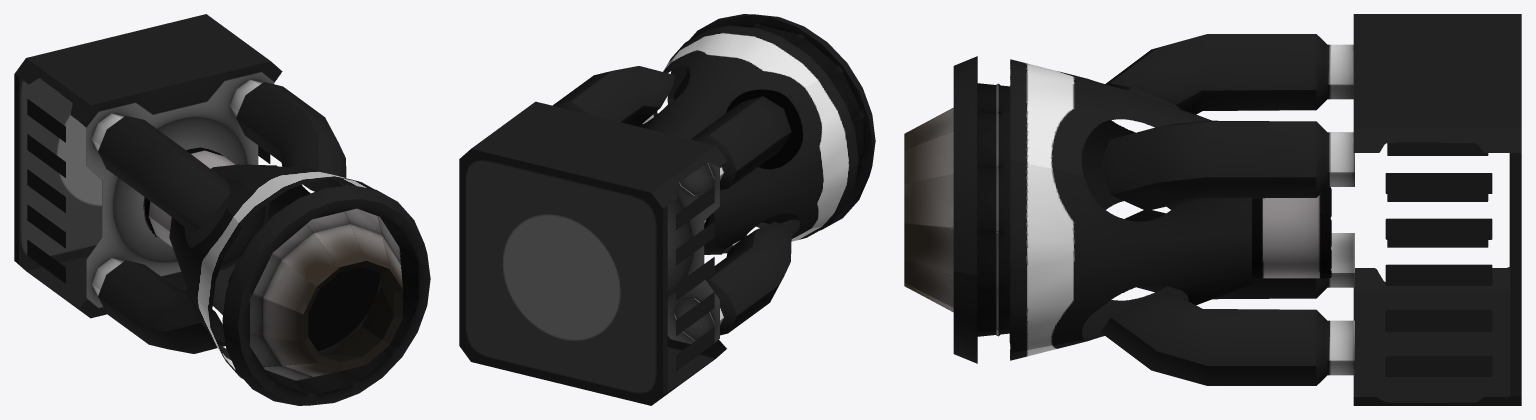
The model's file is obj_interactive_thruster_03_pose0.fbx.
3 renders of one model, left to right at view 1: azimuth 30°, elevation 25°; view 2: azimuth 150°, elevation 25°; view 3: azimuth 270°, elevation 25°, orthographic. The views are drawn at different scales.
Visible parts, largest first — view 1: obj_interactive_thruster_03_pose0; view 2: obj_interactive_thruster_03_pose0; view 3: obj_interactive_thruster_03_pose0.
Part boxes in pixels (left/top/right/bottom): obj_interactive_thruster_03_pose0: left=14, top=14, right=430, bottom=405; obj_interactive_thruster_03_pose0: left=459, top=14, right=875, bottom=405; obj_interactive_thruster_03_pose0: left=904, top=14, right=1521, bottom=405.
Size of the model in its own units: 2.04 by 2.04 by 4.03.
